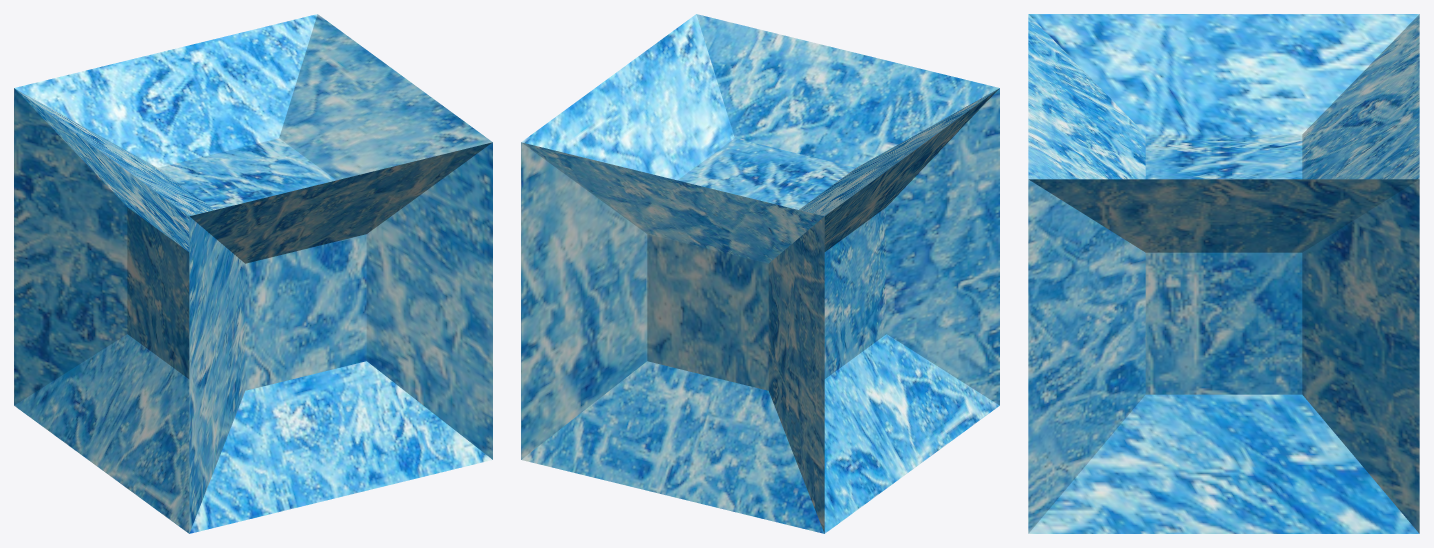
Rendered from water-ice.glb.
3 renders of one model, left to right at view 1: azimuth 30°, elevation 25°; view 2: azimuth 150°, elevation 25°; view 3: azimuth 270°, elevation 25°, orthographic. The views are drawn at different scales.
Parts seen in each view (by area): view 1: water-ice; view 2: water-ice; view 3: water-ice.
Boxes of the visible parts, x1,y1,x2,y2 form: water-ice: (14, 14, 492, 533); water-ice: (521, 14, 999, 533); water-ice: (1028, 14, 1419, 533).
Bounding box in the file's own units: 1 × 1 × 1.
1 material, 1 textured.
